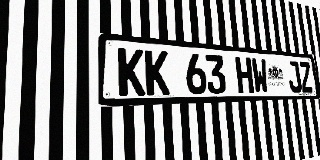3: (205, 54, 226, 94)
6: (185, 53, 207, 94)
H: (235, 57, 254, 94)
J: (286, 61, 302, 93)
K: (118, 48, 145, 96), (144, 50, 170, 95)
W: (251, 58, 269, 93)
Z: (298, 62, 314, 92)
